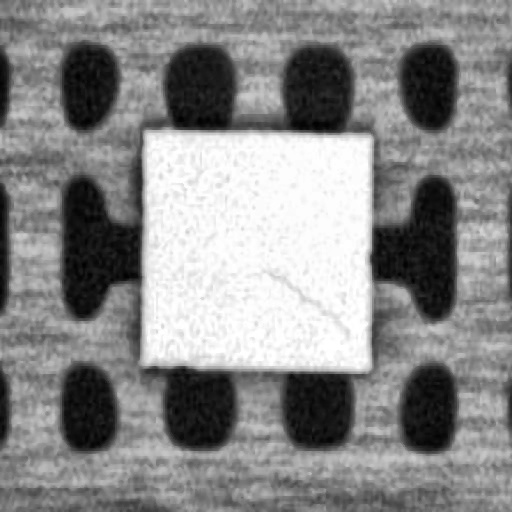DIE_CRACK: (257, 263, 358, 337)
